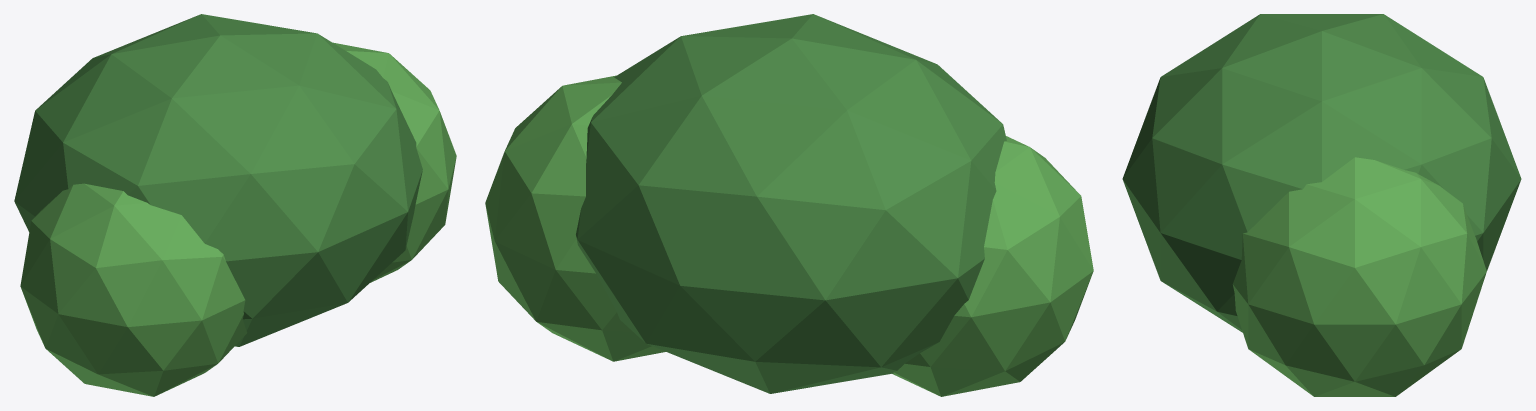
The model's file is bush.glb.
3 renders of one model, left to right at view 1: azimuth 30°, elevation 25°; view 2: azimuth 150°, elevation 25°; view 3: azimuth 270°, elevation 25°, orthographic. The views are drawn at different scales.
Visible parts, largest first — view 1: bush; view 2: bush; view 3: bush.
Boxes of the visible parts, x1,y1,x2,y2 form: bush: (14,14,456,396); bush: (485,14,1093,396); bush: (1122,14,1521,396).
Size of the model in its own units: 1.59 by 1.02 by 1.21.
